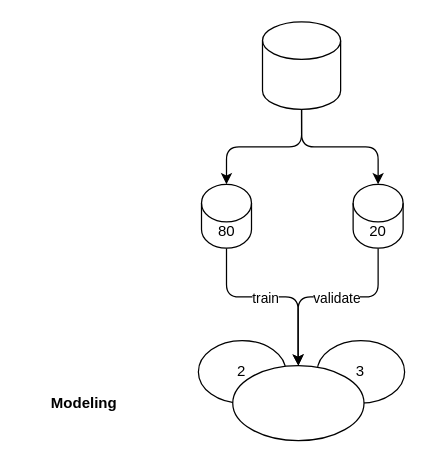
This 426x463 diagram has some shape labels left out. Each missing label, with the centre of its shape:
"Cumulative Data" belongs at (301,65).
"Model 1" belongs at (298,402).
